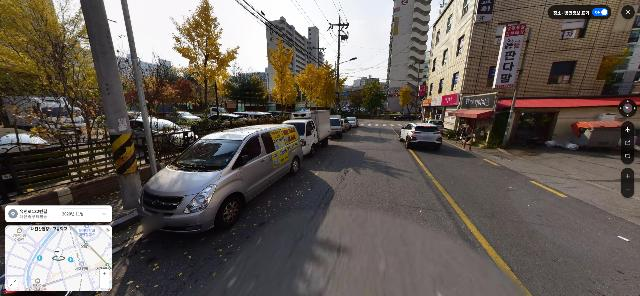ginkgo: (168, 1, 241, 120), (264, 39, 301, 119), (298, 63, 333, 110), (317, 66, 348, 110), (397, 85, 416, 113)
other: (1, 1, 111, 171), (116, 51, 190, 124), (135, 75, 196, 124), (174, 66, 218, 120), (226, 63, 270, 113), (362, 79, 389, 115), (342, 88, 364, 116)
